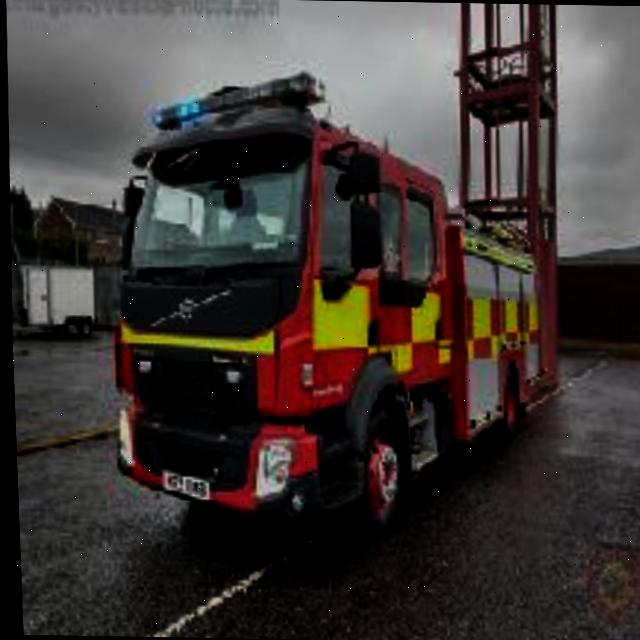emergency: (102, 89, 550, 527)
